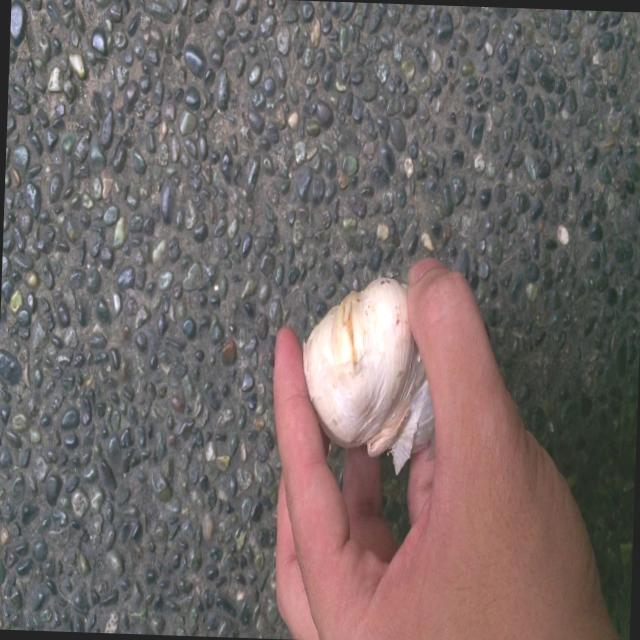bawang: (288, 262, 435, 468)
